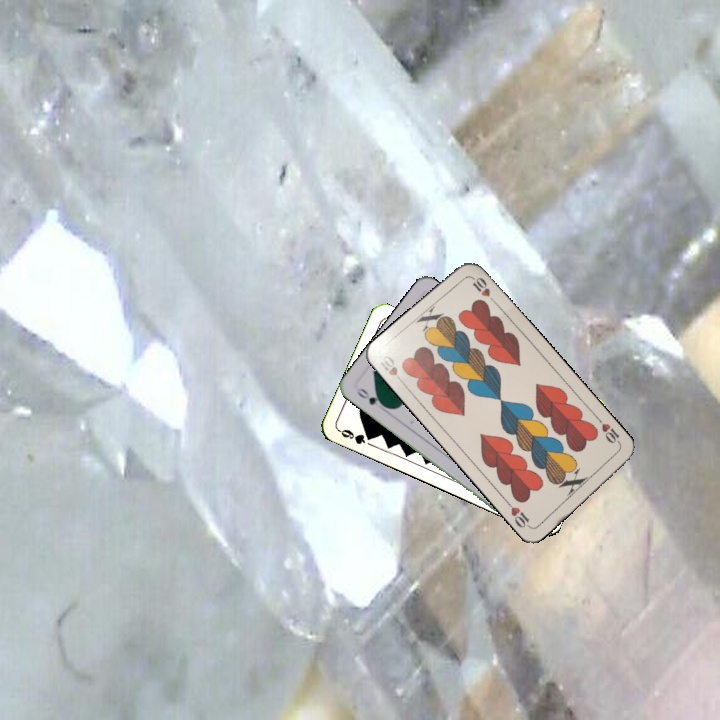G9: (335, 425, 376, 447)
GO: (353, 384, 389, 410)
H10: (375, 350, 407, 387), (594, 414, 624, 449)
